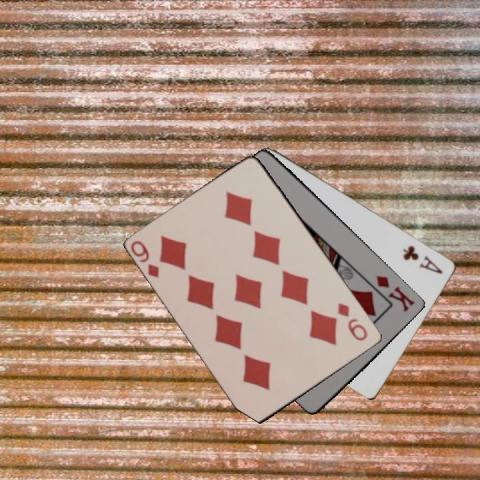9d: (335, 299, 369, 343), (128, 237, 162, 280)
Ac: (400, 242, 445, 275)
Kd: (373, 272, 417, 313)
